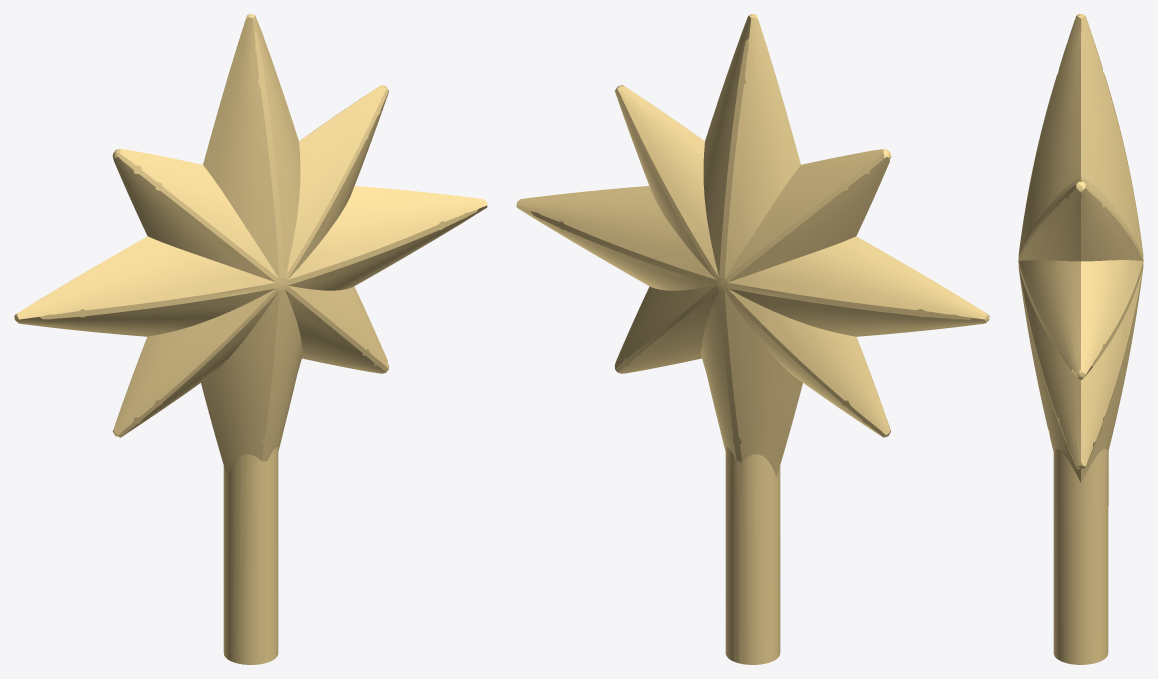
Rendered from gold_glossy.glb.
3 views of the same model, side by side, from view 1: azimuth 30°, elevation 25°; view 2: azimuth 150°, elevation 25°; view 3: azimuth 270°, elevation 25° (orthographic).
Visible parts, largest first — view 1: small_star; view 2: small_star; view 3: small_star.
Boxes of the visible parts, left/top/right/bottom form: small_star: left=14, top=14, right=487, bottom=664; small_star: left=516, top=14, right=989, bottom=664; small_star: left=1018, top=14, right=1143, bottom=664.
Bounding box in the file's own units: 0.17 × 0.22 × 0.039.
